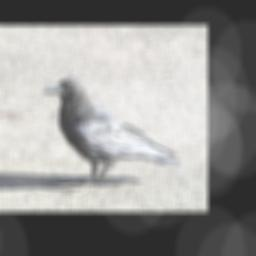Crow: (42, 76, 183, 194)
